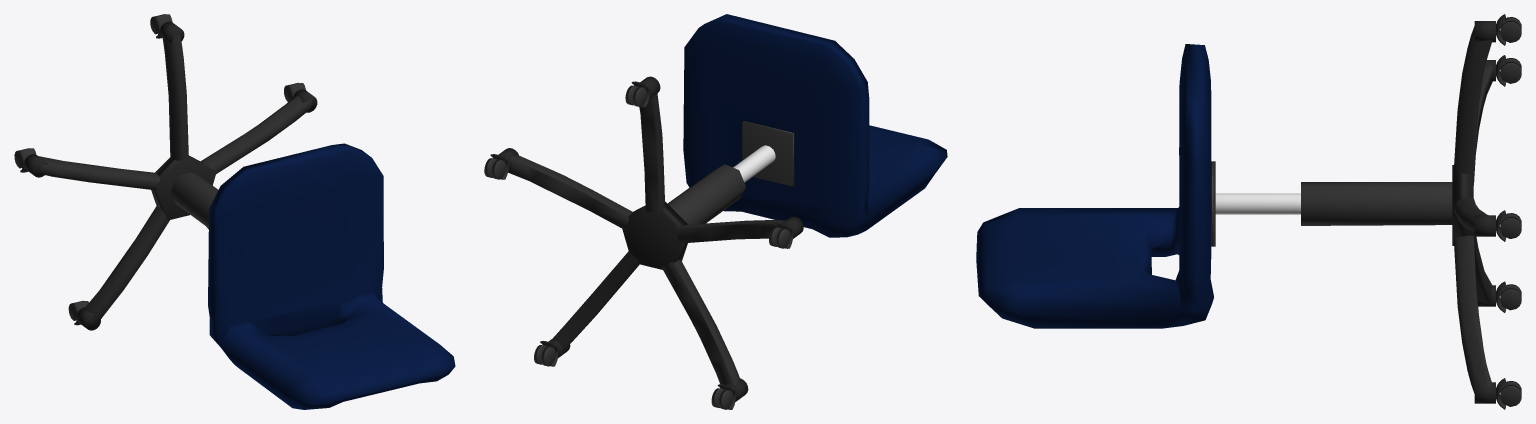
File: newchairv2LowRes.fbx
3 renders of one model, left to right at view 1: azimuth 30°, elevation 25°; view 2: azimuth 150°, elevation 25°; view 3: azimuth 270°, elevation 25°, orthographic. The views are drawn at different scales.
Parts seen in each view (by area): view 1: Mball_004, NurbsCurve_003, NurbsCurve, NurbsCurve_001, NurbsCurve_002, Cylinder_002, Cylinder_001; view 2: Mball_004, Cylinder_002, NurbsCurve_003, Cylinder_001, NurbsCurve_001, NurbsCurve, Cube, NurbsCurve_004, NurbsCurve_002, Cylinder; view 3: Mball_004, Cylinder_001, NurbsCurve_004, NurbsCurve, Cylinder, Cylinder_002, NurbsCurve_003, NurbsCurve_001, NurbsCurve_002.
Part boxes in pixels (bbox=[...]): Mball_004: bbox=[208, 143, 455, 409]; NurbsCurve_003: bbox=[83, 206, 169, 324]; NurbsCurve: bbox=[162, 34, 188, 160]; NurbsCurve_001: bbox=[201, 95, 312, 173]; NurbsCurve_002: bbox=[39, 156, 159, 190]; Cylinder_002: bbox=[151, 155, 216, 220]; Cylinder_001: bbox=[170, 172, 218, 227]; Mball_004: bbox=[683, 14, 947, 237]; Cylinder_002: bbox=[622, 201, 687, 269]; NurbsCurve_003: bbox=[661, 260, 739, 385]; Cylinder_001: bbox=[667, 164, 745, 224]; NurbsCurve_001: bbox=[508, 155, 632, 229]; NurbsCurve: bbox=[639, 93, 665, 213]; Cube: bbox=[742, 121, 794, 186]; NurbsCurve_004: bbox=[550, 251, 639, 351]; NurbsCurve_002: bbox=[675, 220, 785, 243]; Cylinder: bbox=[733, 145, 775, 182]; Mball_004: bbox=[976, 44, 1213, 328]; Cylinder_001: bbox=[1301, 182, 1452, 225]; NurbsCurve_004: bbox=[1454, 235, 1492, 393]; NurbsCurve: bbox=[1454, 26, 1491, 176]; Cylinder: bbox=[1215, 193, 1300, 214]; Cylinder_002: bbox=[1452, 165, 1473, 245]; NurbsCurve_003: bbox=[1473, 232, 1493, 303]; NurbsCurve_001: bbox=[1454, 198, 1488, 231]; NurbsCurve_002: bbox=[1473, 66, 1492, 185].
Size of the model in its own units: 3.61 by 3.52 by 5.09.
